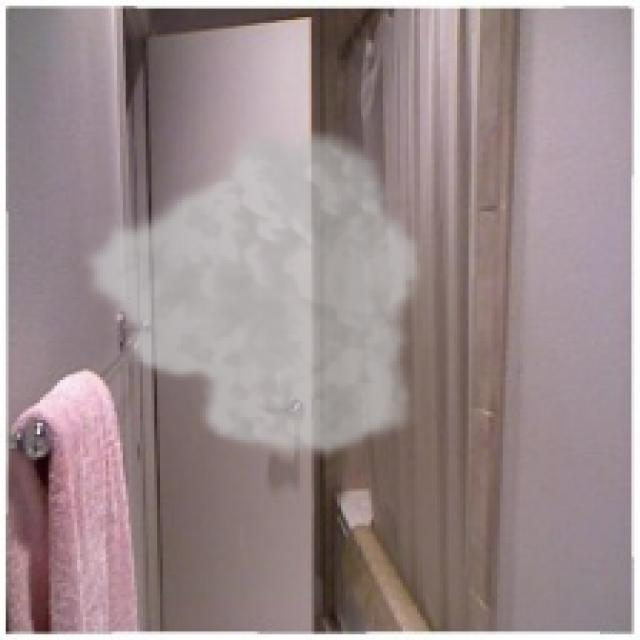Smoke: (80, 120, 426, 463)
